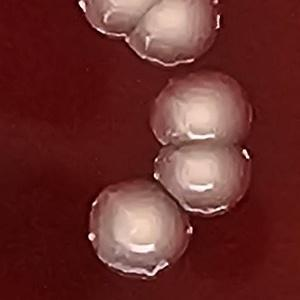colony: (86, 179, 197, 282), (145, 134, 259, 223), (145, 69, 264, 148), (123, 0, 230, 74), (75, 0, 171, 48)
